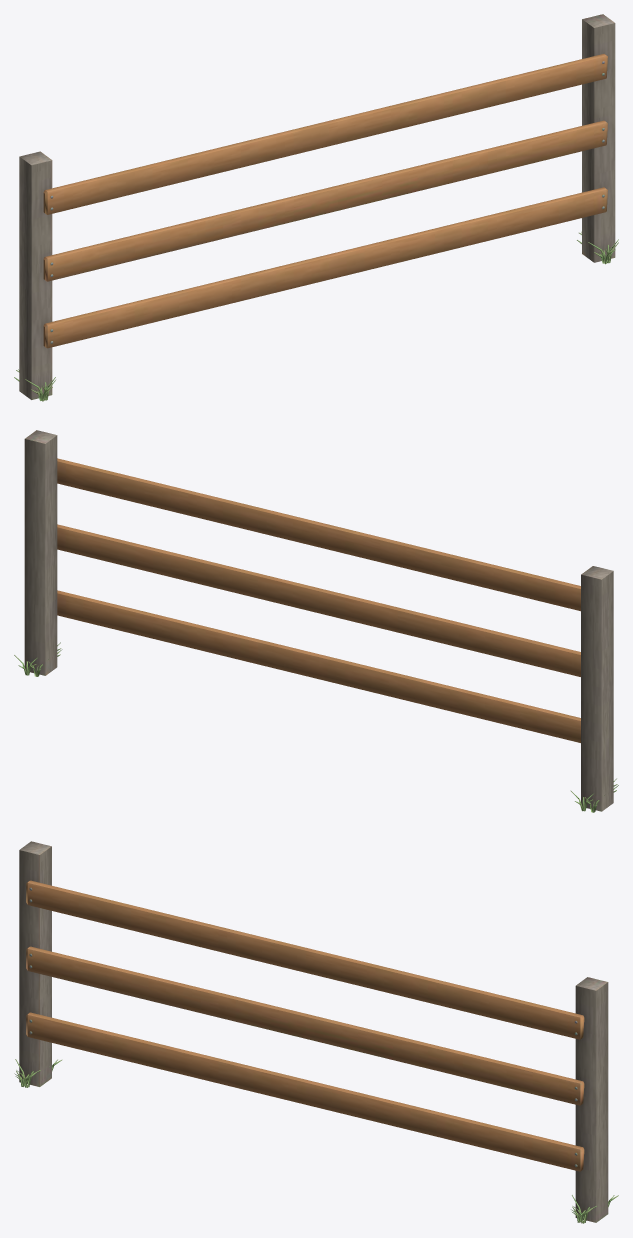
Rendered from wooden-fence.glb.
3 views of the same model, one above another, from view 1: azimuth 30°, elevation 25°; view 2: azimuth 150°, elevation 25°; view 3: azimuth 330°, elevation 25° (orthographic).
Parts seen in each view (by area): view 1: wooden-fence_body; view 2: wooden-fence_body; view 3: wooden-fence_body.
Part boxes in pixels (left/top/right/bottom): wooden-fence_body: left=14, top=14, right=618, bottom=401; wooden-fence_body: left=14, top=430, right=618, bottom=812; wooden-fence_body: left=14, top=841, right=618, bottom=1223.
Size of the model in its own units: 3.18 by 1.2 by 0.2787.
1 material, 1 textured.
